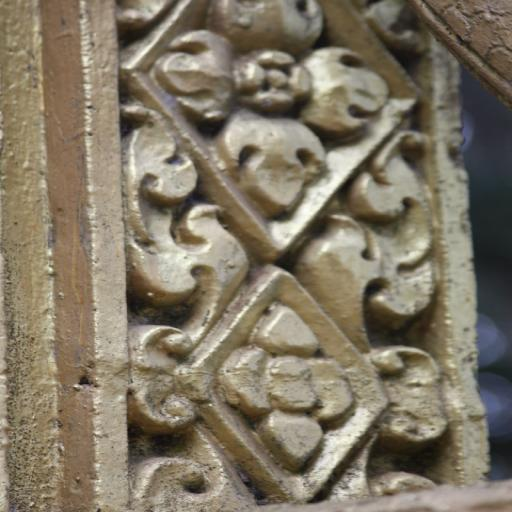hoa: (137, 4, 402, 232), (208, 280, 358, 467)
la: (120, 114, 253, 318), (329, 151, 440, 314)
